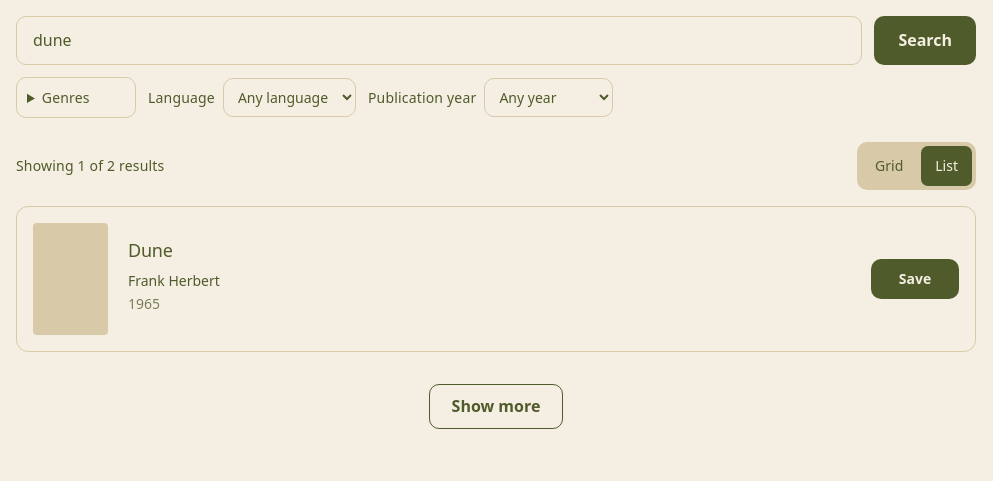
Test case: SearchPage › more results › keeps the results when the next page fails
Click the button "Show more". click: (496, 406)
box: [429,384,563,429]
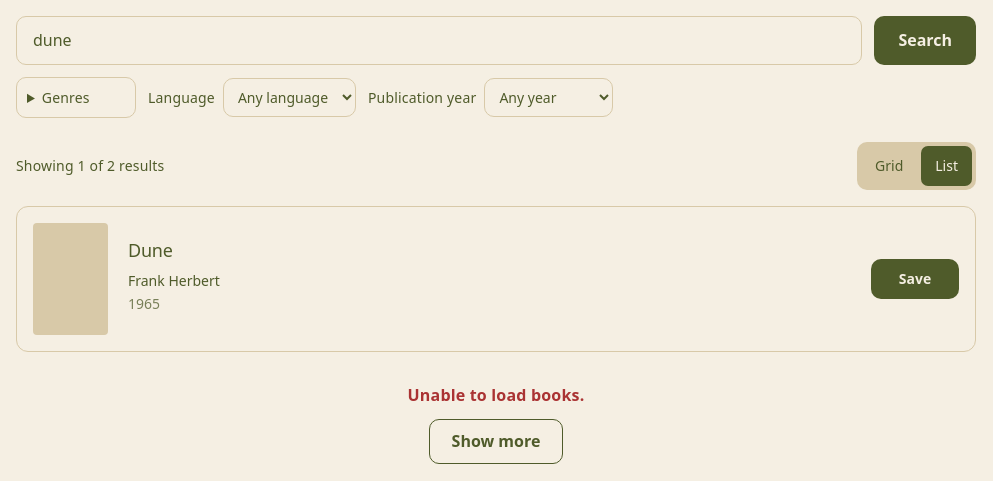
Check: the text "Showing 1 of 2 results" is shown, box [16,154,164,178]
Check: the message reads "Unable to load books.", box [408,384,584,406]
